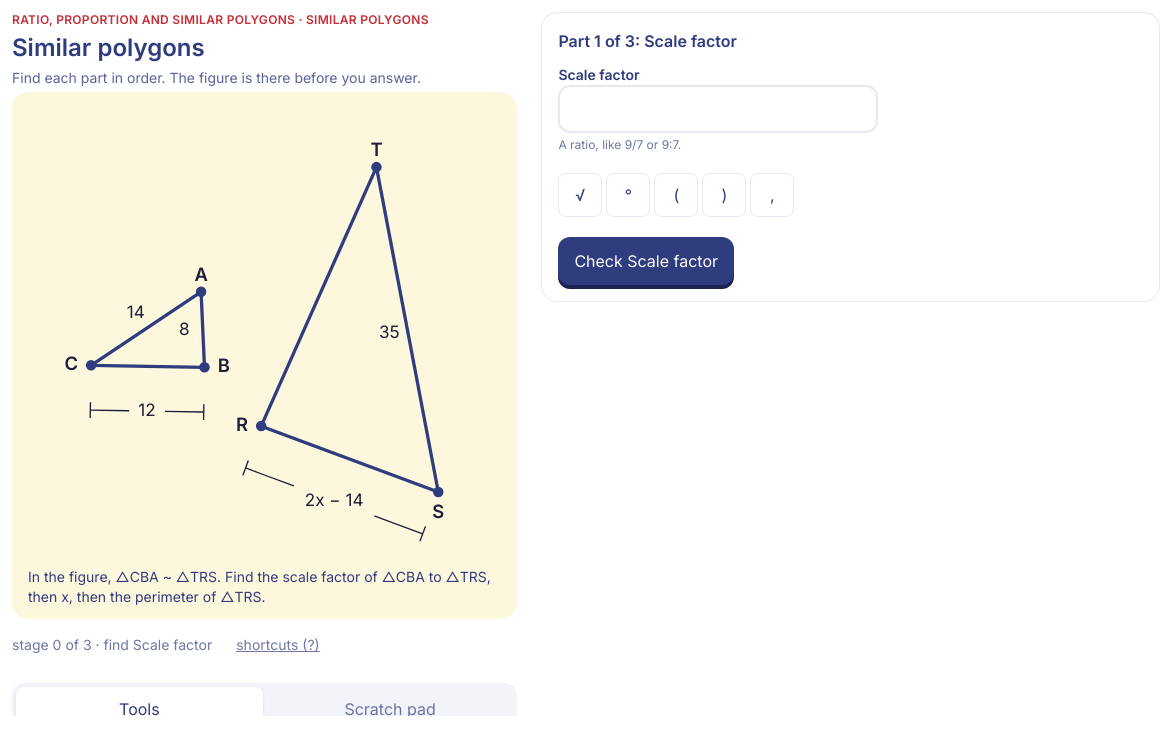
Test case: GeometryFlow unit 6 geoRatios/gr.polygons › an unreadable answer records nothing
Step 1. Click the button "Check Scale factor" → click(646, 261), box [558,237,734,285]
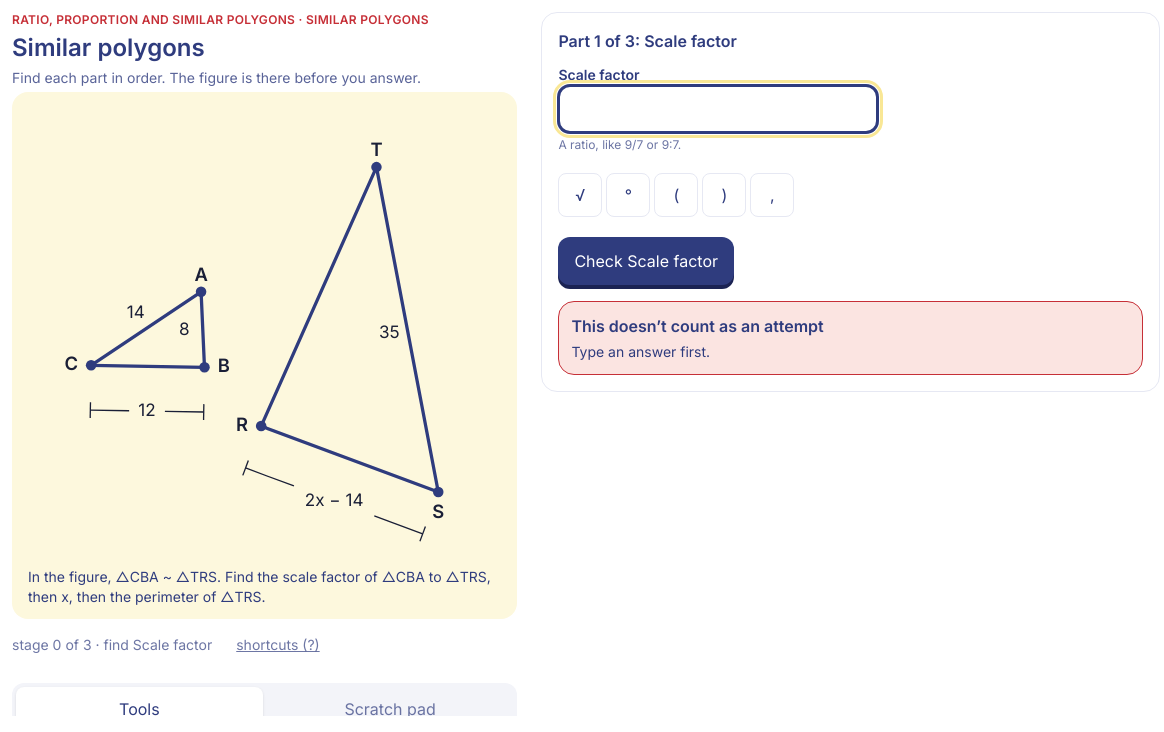
Check: the message shows "This doesn’t count as an attempt", box [571,316,824,336]
Step 2. Type "???" into the field labelled "Scale factor" → (718, 109), box [558,85,878,133]
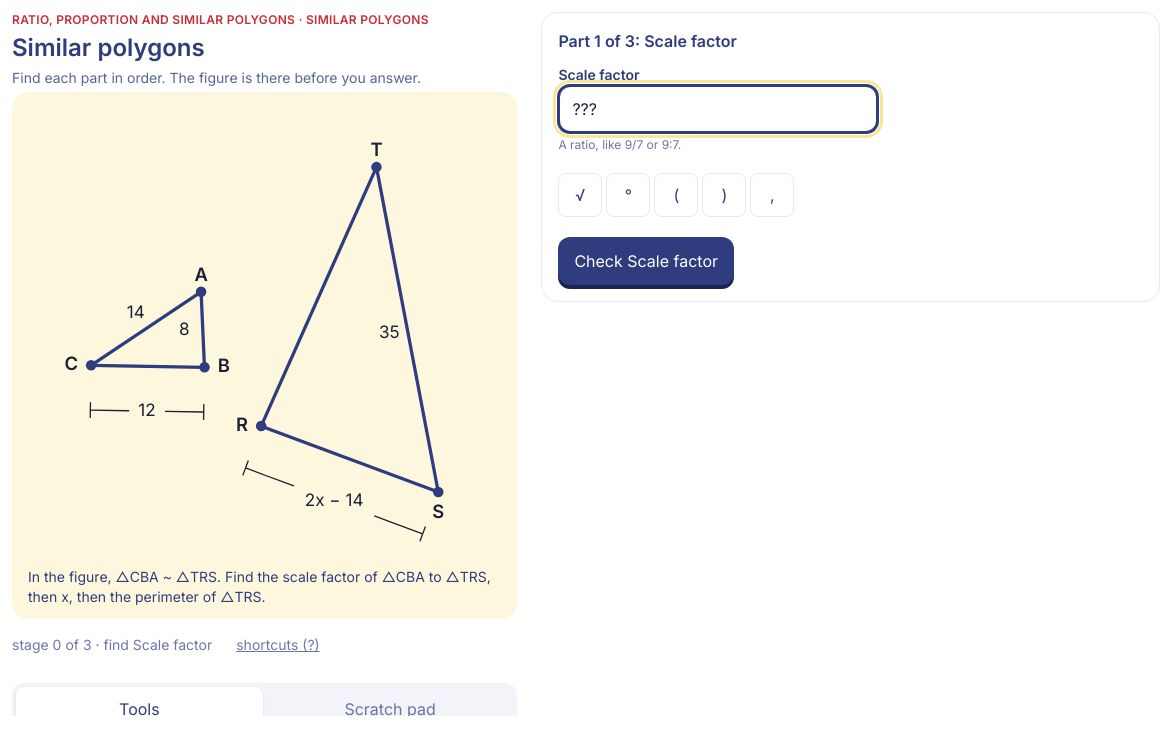
Check: the message "This doesn’t count as an attempt Type an answer first." is gone
Step 3. Click the button "Check Scale factor" → click(646, 261), box [558,237,734,285]
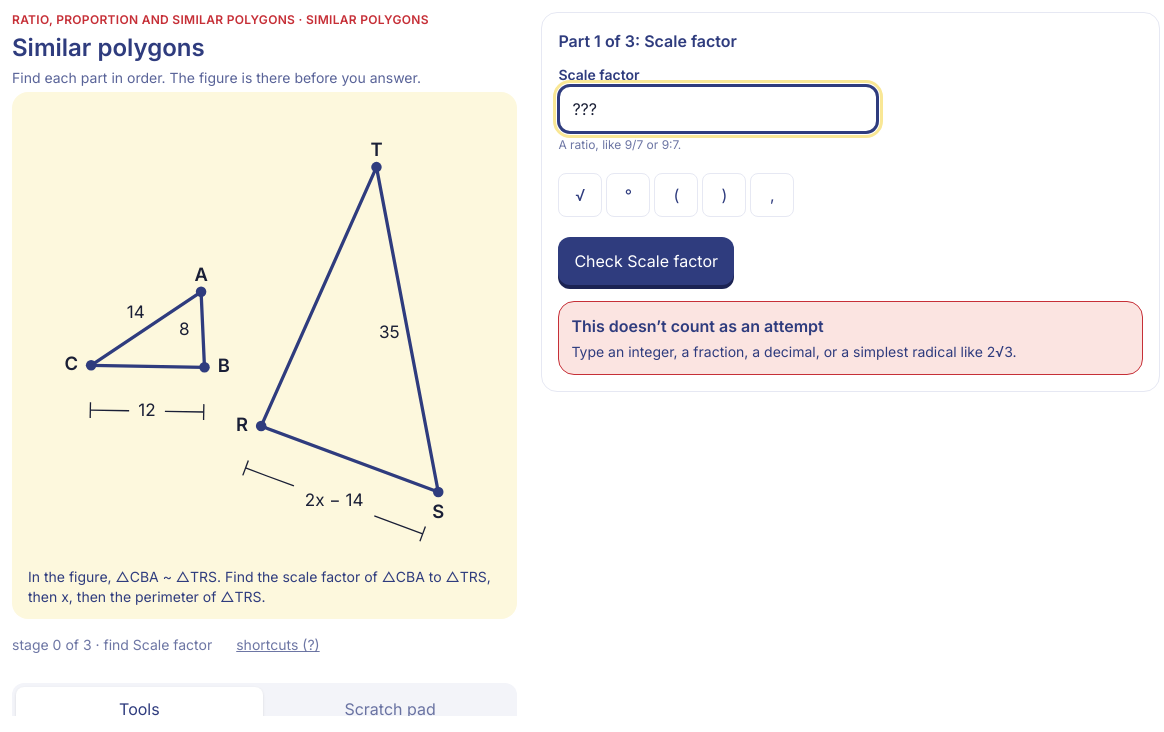
Check: the message shows "This doesn’t count as an attempt", box [571,316,824,336]
